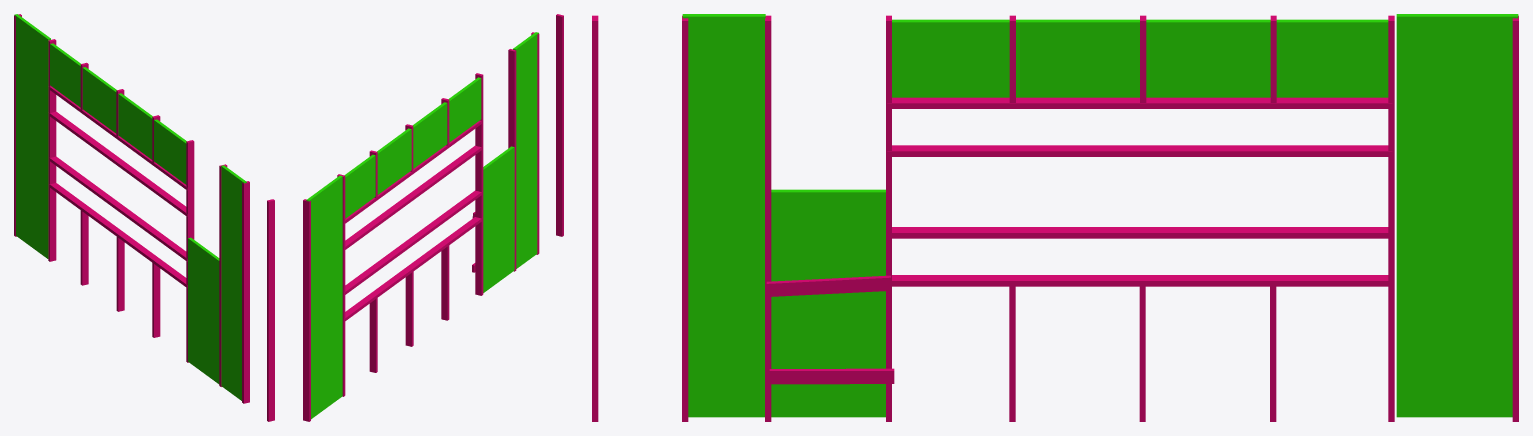
The model's file is BH04B_Wall_09_Break_B.fbx.
3 renders of one model, left to right at view 1: azimuth 30°, elevation 25°; view 2: azimuth 150°, elevation 25°; view 3: azimuth 270°, elevation 25°, orthographic. The views are drawn at different scales.
Parts seen in each view (by area): view 1: BH04B_Wall_09_Break_B; view 2: BH04B_Wall_09_Break_B; view 3: BH04B_Wall_09_Break_B.
Boxes of the visible parts, x1,y1,x2,y2 form: BH04B_Wall_09_Break_B: (14,14,274,421); BH04B_Wall_09_Break_B: (303,14,563,421); BH04B_Wall_09_Break_B: (592,14,1518,421).
Size of the model in its own units: 12.91 by 301 by 629.
